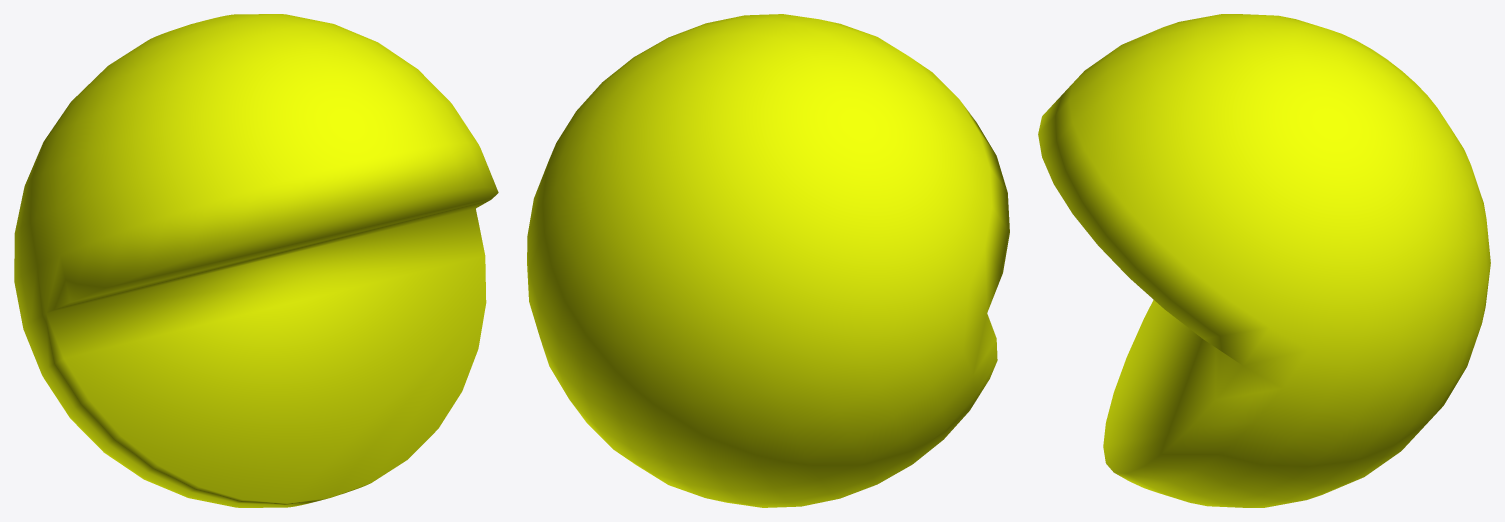
Rendered from packman.fbx.
3 views of the same model, side by side, from view 1: azimuth 30°, elevation 25°; view 2: azimuth 150°, elevation 25°; view 3: azimuth 270°, elevation 25° (orthographic).
Visible parts, largest first — view 1: 球; view 2: 球; view 3: 球.
Boxes of the visible parts, x1,y1,x2,y2 form: 球: (14, 14, 498, 507); 球: (527, 14, 1009, 507); 球: (1038, 14, 1490, 507).
Bounding box in the file's own units: 2 × 2 × 1.83.
